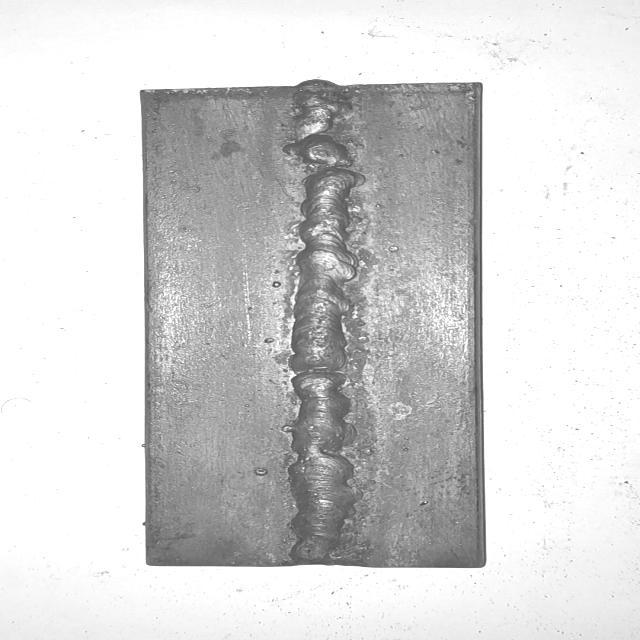Defect: (274, 84, 368, 184)
Welding Line: (288, 92, 359, 556)
Workpiece: (130, 79, 494, 577)
